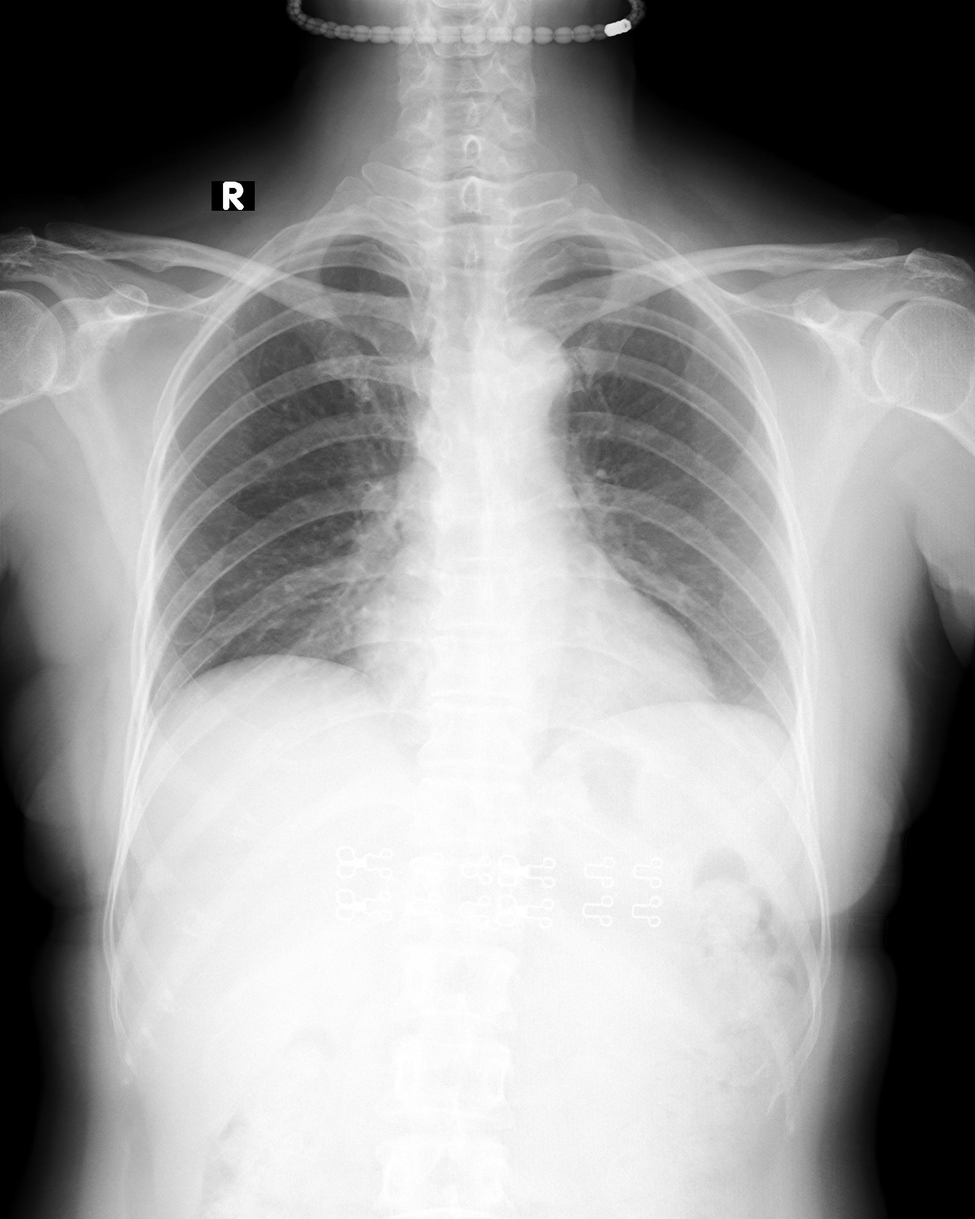Aortic enlargement: (472, 325, 571, 455)
Cardiomegaly: (344, 581, 712, 730)
